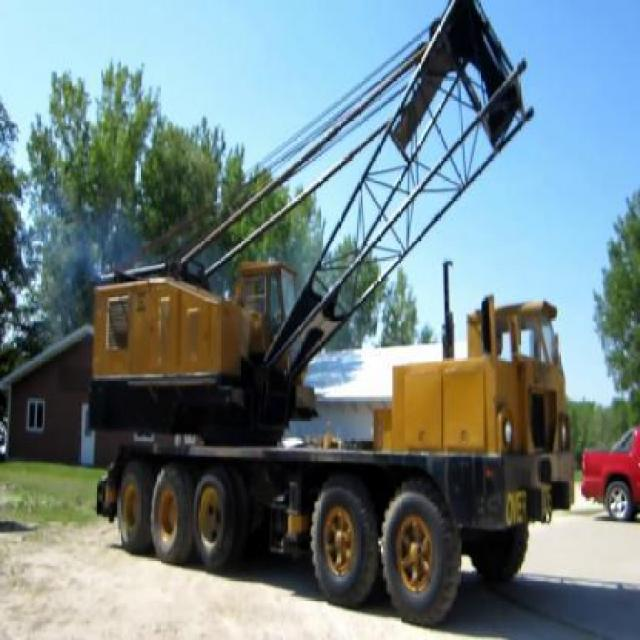Mobile Crane: (89, 0, 572, 618)
